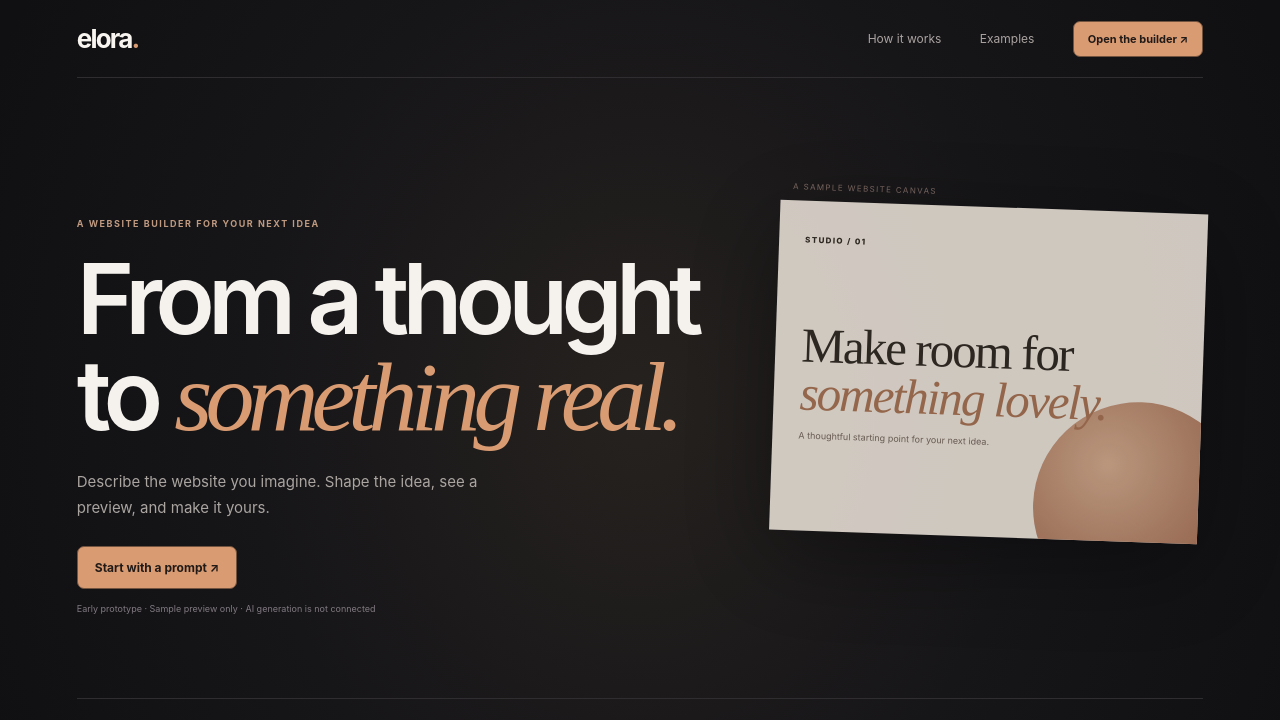
builder prototype › copies an example into the prompt without starting the demo
Click the button "Open the builder ↗": (1138, 38) [1073,20,1203,56]
(page scrolled)
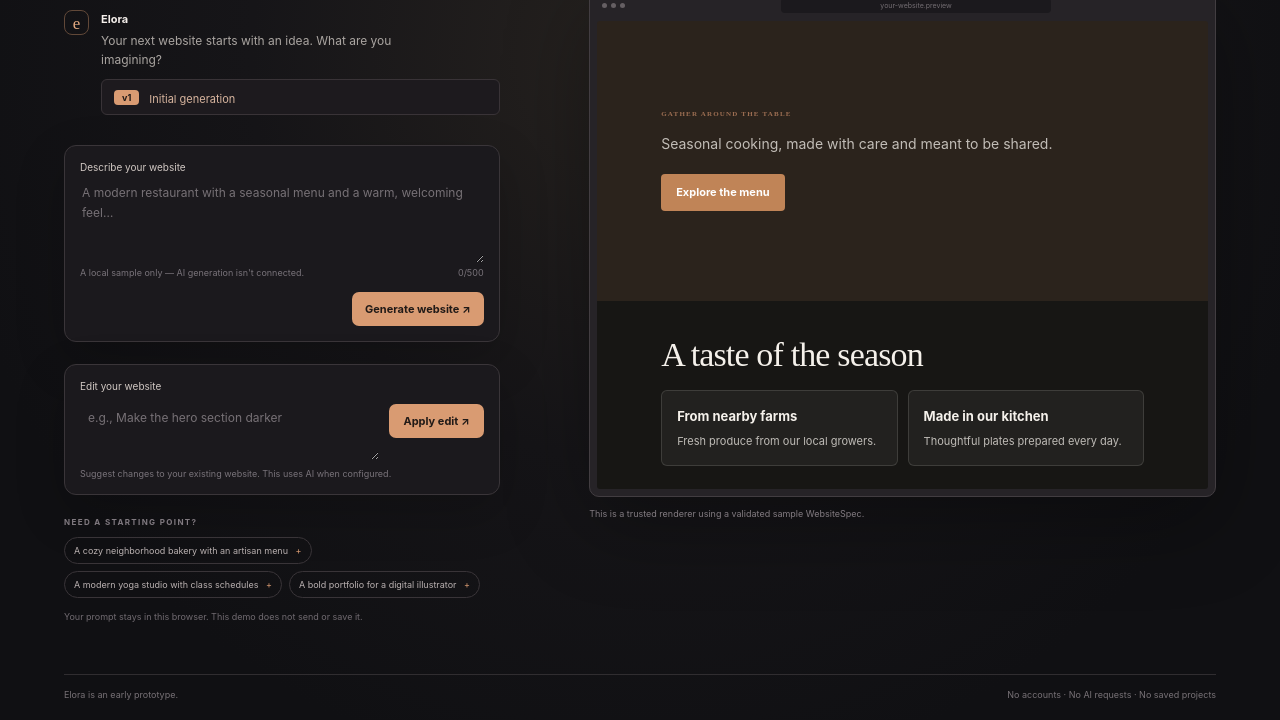
Click the button "A cozy neighborhood bakery with an artisan menu +": (188, 551) [64,537,312,564]
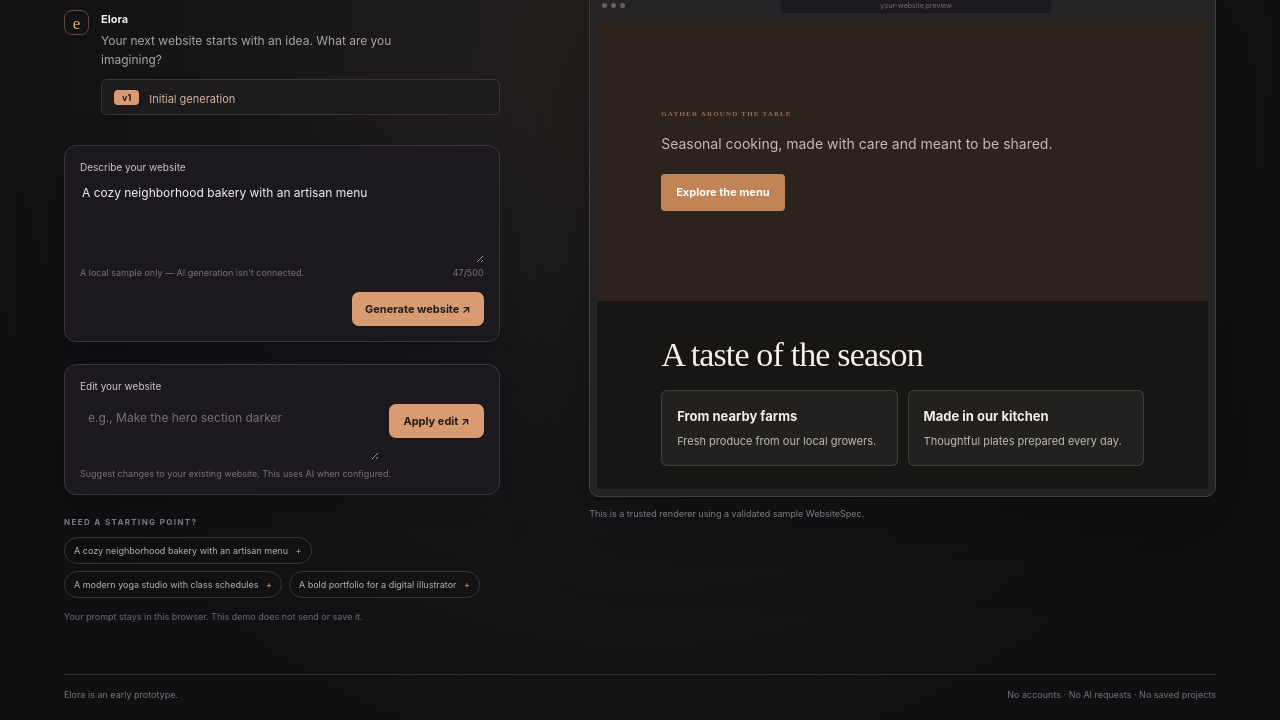
Result: the text box labelled "Describe your website" holds "A cozy neighborhood bakery with an artisan menu" at [80,181,484,263]
